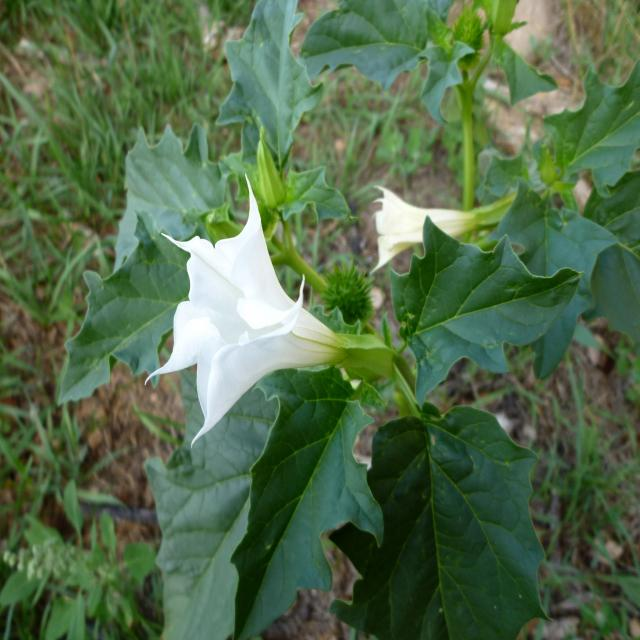Poisonous-Datura_Stramonium: (155, 182, 416, 494), (314, 382, 581, 640), (370, 176, 640, 402)
